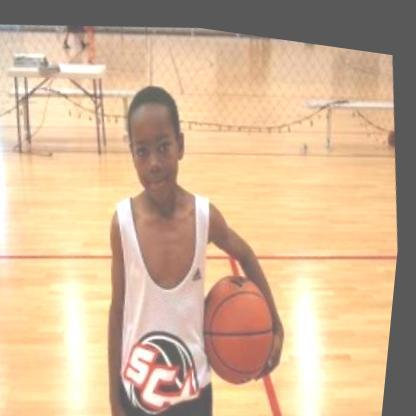basketball: (195, 253, 294, 387)
